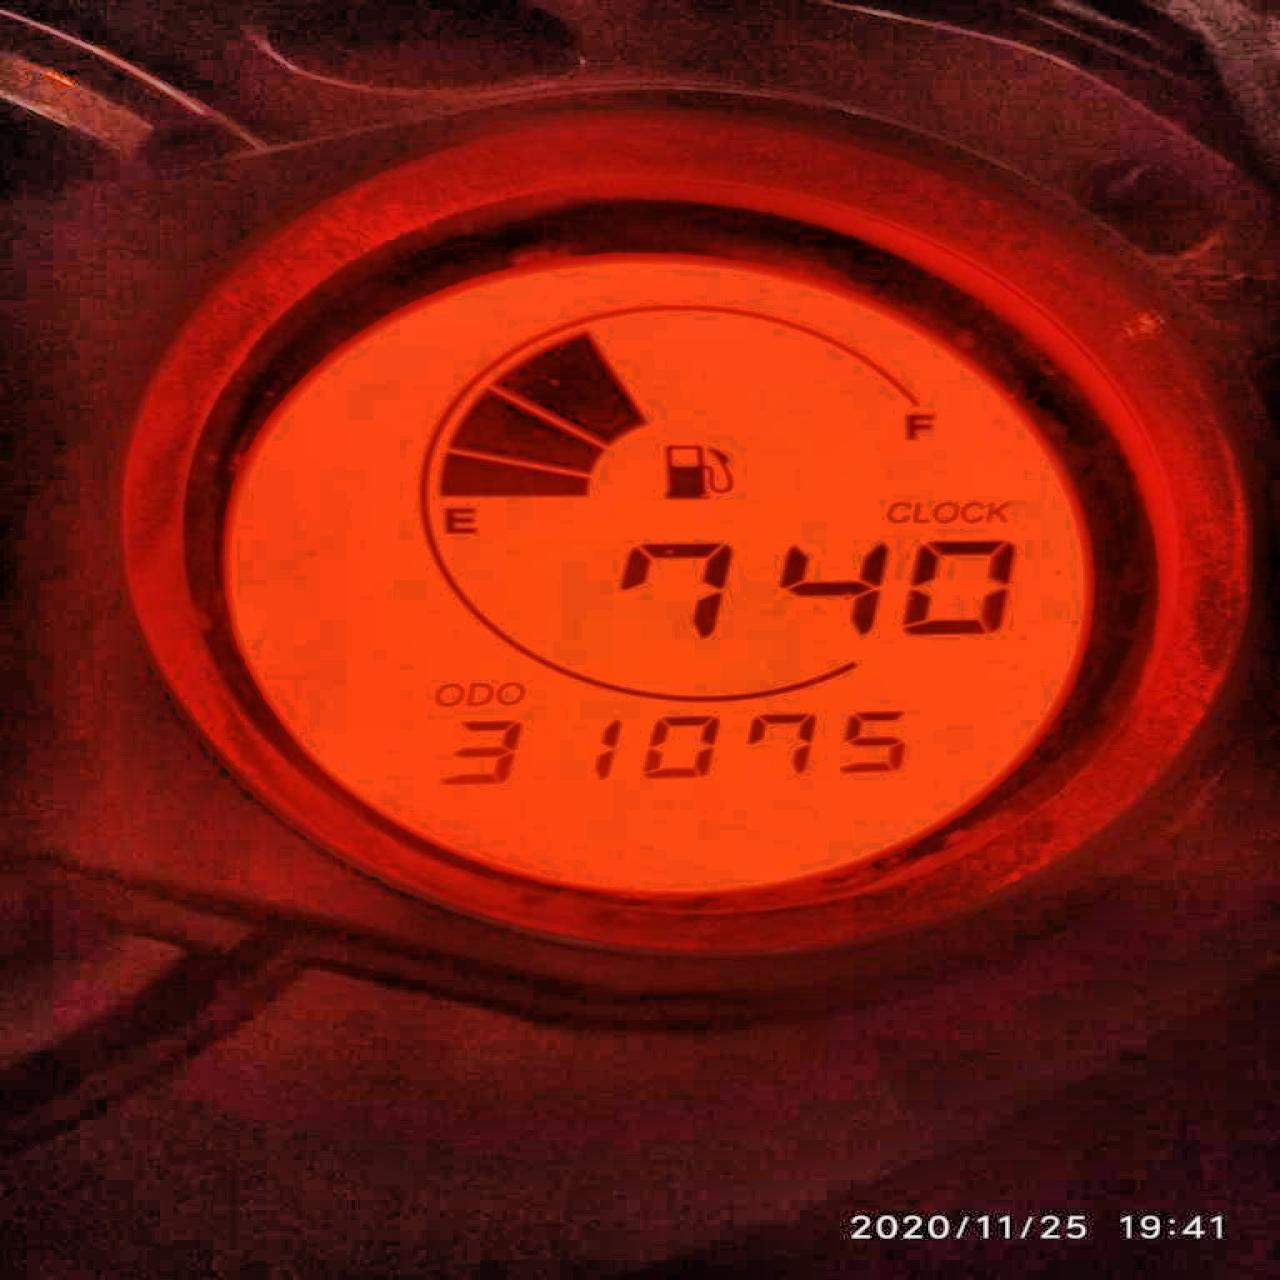0: (901, 538, 1015, 636), (640, 715, 719, 779)
1: (590, 717, 620, 781)
3: (440, 719, 520, 783)
4: (778, 540, 885, 635)
5: (835, 708, 905, 772)
7: (618, 539, 735, 639), (745, 712, 815, 775)
X: (440, 505, 481, 535), (904, 411, 933, 437), (434, 682, 463, 707), (465, 682, 492, 707), (493, 681, 522, 704), (932, 501, 956, 520), (959, 501, 983, 520), (887, 501, 911, 520), (985, 501, 1008, 520), (912, 502, 931, 523)
odometer: (210, 246, 1103, 910)
